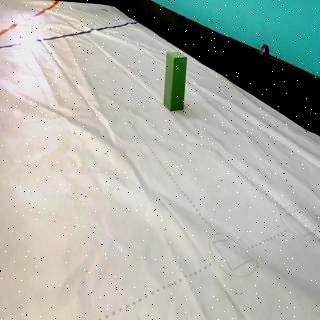greenbox: (164, 49, 188, 112)
